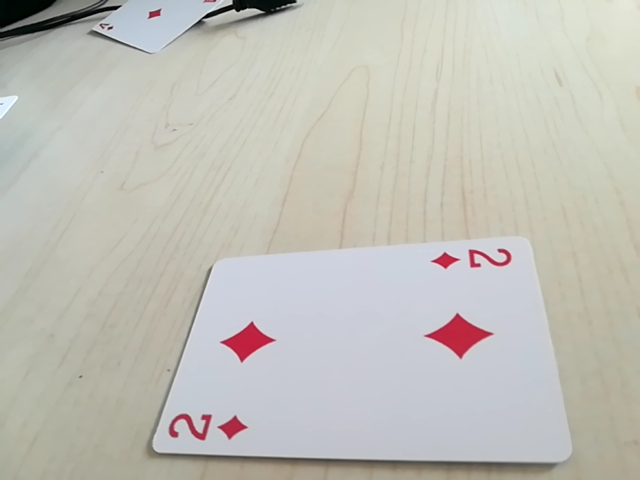fk 2: (163, 405, 251, 448), (429, 243, 521, 279)
